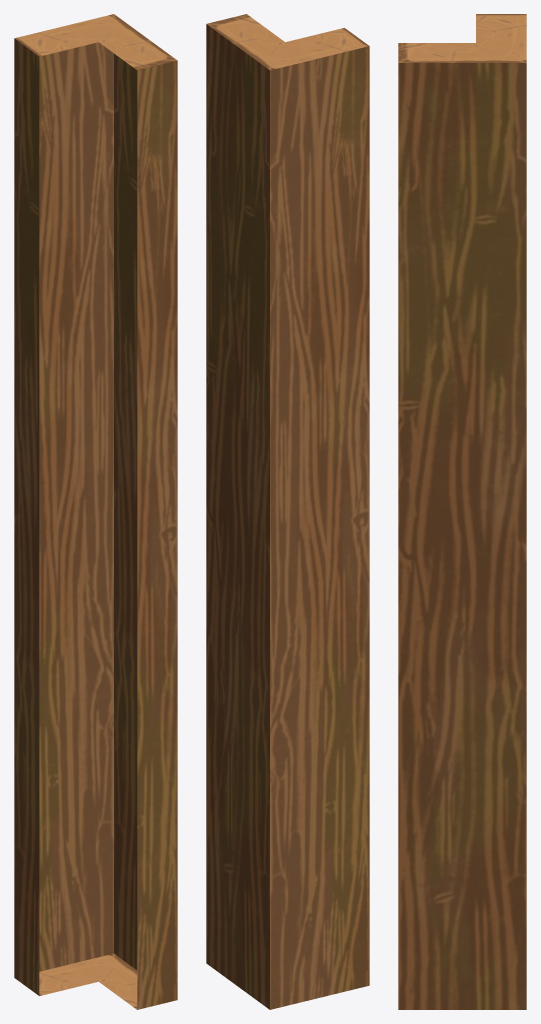
The model's file is p_Corner_Interior_Big.glb.
The picture shows the model from 3 angles, left to right: view 1: azimuth 30°, elevation 25°; view 2: azimuth 210°, elevation 25°; view 3: azimuth 270°, elevation 25°; orthographic projection.
Parts seen in each view (by area): view 1: Corner_Interior_Big; view 2: Corner_Interior_Big; view 3: Corner_Interior_Big.
Boxes of the visible parts, left/top/right/bottom form: Corner_Interior_Big: left=14, top=14, right=177, bottom=1009; Corner_Interior_Big: left=206, top=14, right=369, bottom=1009; Corner_Interior_Big: left=398, top=14, right=526, bottom=1009.
Bounding box in the file's own units: 0.3331 × 3 × 0.3681.
Materials: 1 (1 with a texture image).
